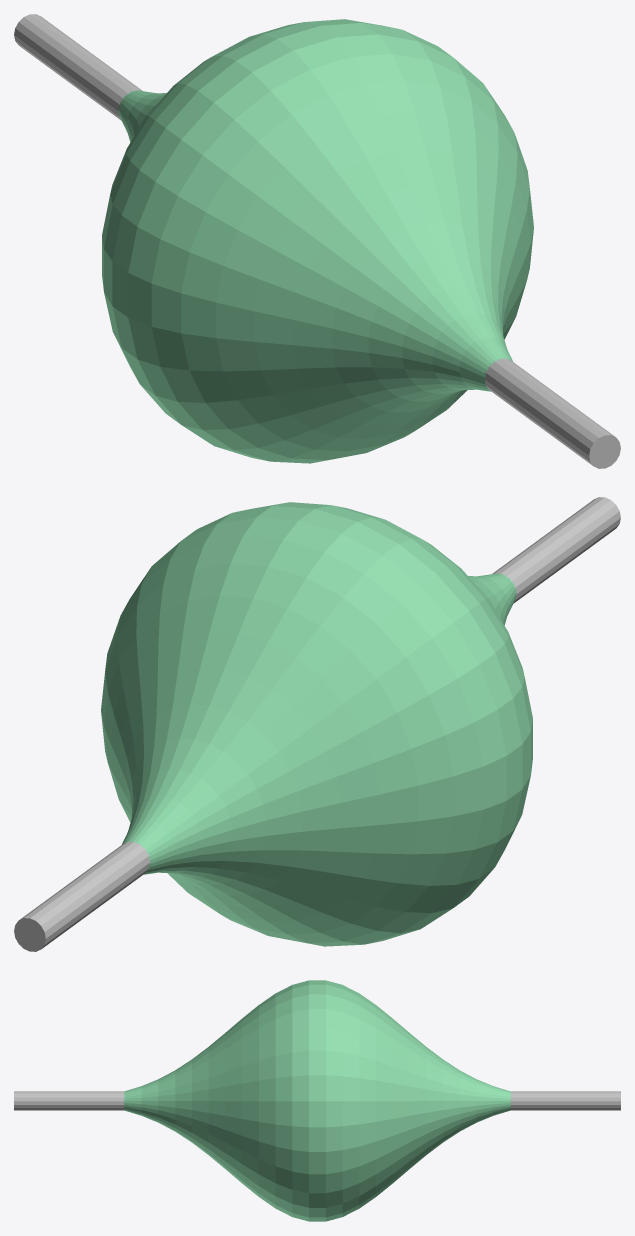
The model's file is surface_of_revolution.glb.
3 views of the same model, one above another, from view 1: azimuth 30°, elevation 25°; view 2: azimuth 150°, elevation 25°; view 3: azimuth 270°, elevation 25° (orthographic). The views are drawn at different scales.
Parts seen in each view (by area): view 1: world; view 2: world; view 3: world.
Part boxes in pixels (x1,y1,x2,y2): world: (14, 14, 620, 468); world: (14, 497, 620, 951); world: (14, 980, 620, 1221).
Bounding box in the file's own units: 1.98 × 1.99 × 5.
